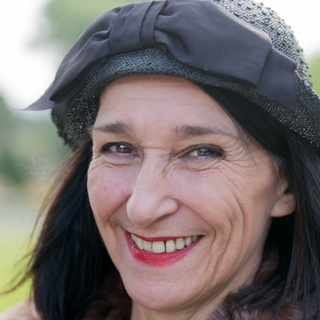eye: (169, 139, 229, 165), (94, 135, 145, 163)
